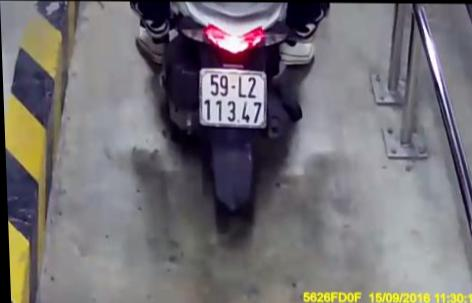LP: (197, 65, 268, 130)
